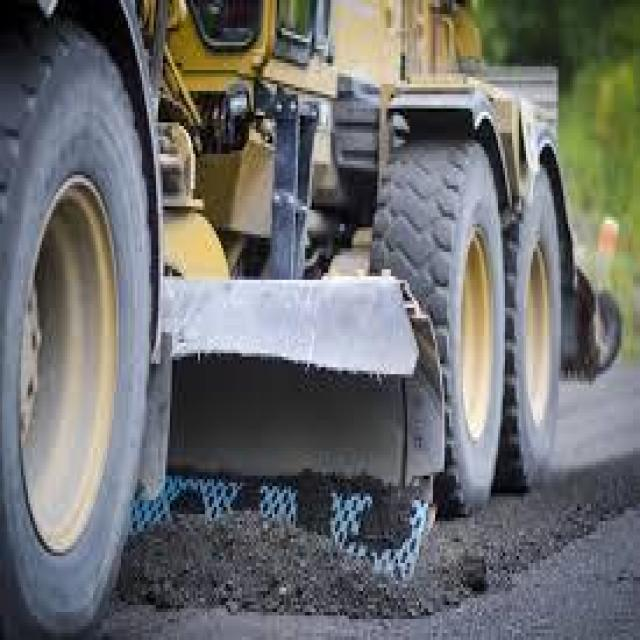Grader: (2, 4, 638, 636)
